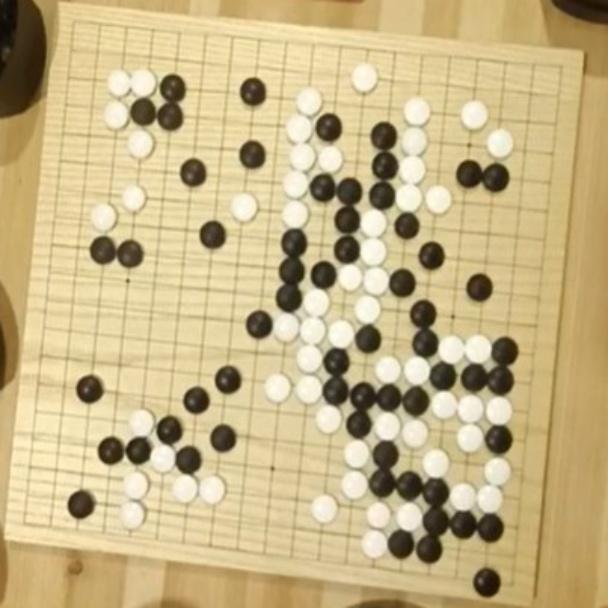corners: (59, 3, 90, 45), (10, 504, 41, 542), (495, 573, 530, 606), (542, 55, 574, 90)
